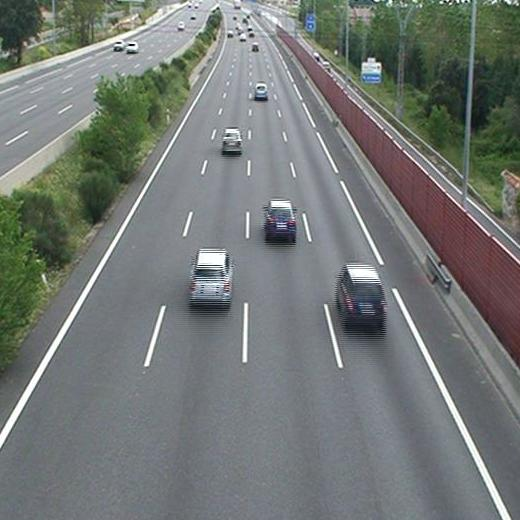car: (337, 266, 385, 321), (190, 250, 233, 303), (266, 201, 296, 235), (221, 128, 242, 152), (254, 83, 269, 99)
